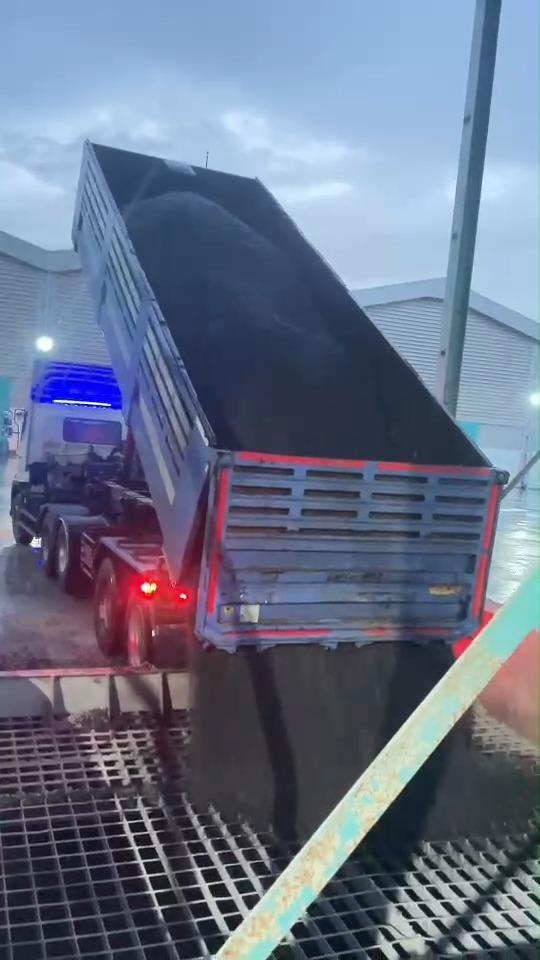gravel: (125, 192, 365, 457), (188, 641, 452, 842), (376, 715, 512, 844)
